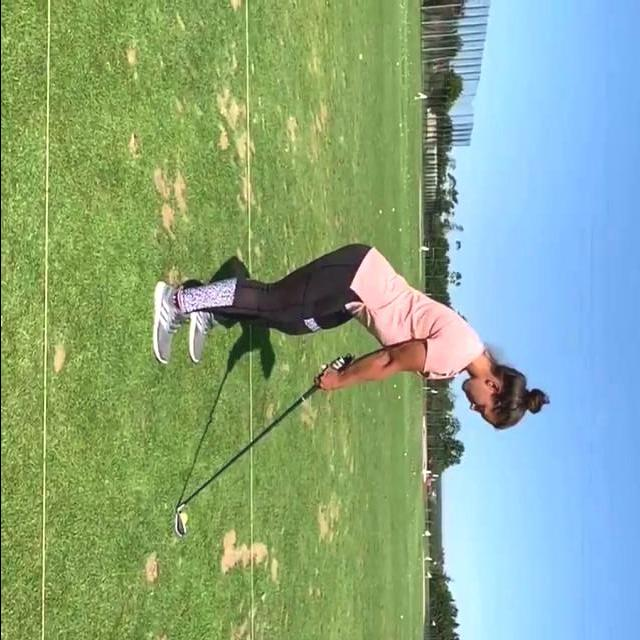golf ball: (180, 512, 188, 522)
golf club-handle: (173, 350, 352, 539)
golf club-head: (175, 508, 187, 536)
